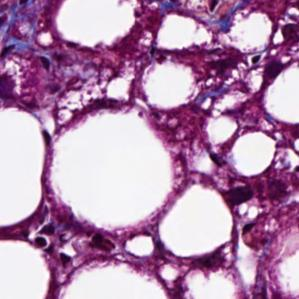inflammation: (27, 223, 80, 266), (199, 50, 268, 80), (65, 97, 128, 121), (219, 182, 258, 207)
